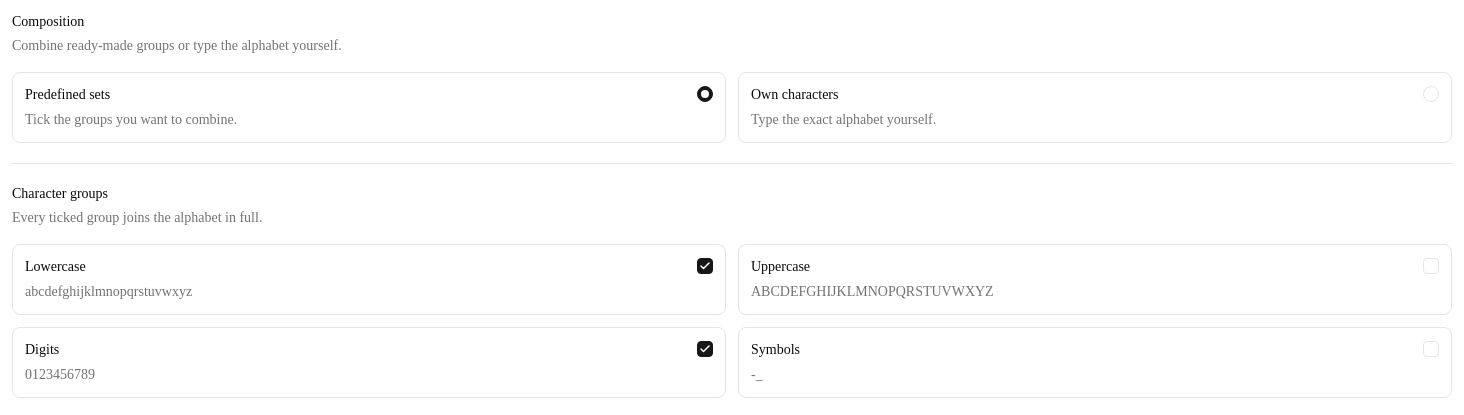
Scenario: IdAlphabetField › swaps the checkboxes for a character input in custom mode
The image size is (1464, 415).
What coordinates should you click on to do the following:
click the radio button named "Own characters" in the row of "Own characters"
I would click on:
 (1431, 94)
Its box is [1423,86,1439,102].
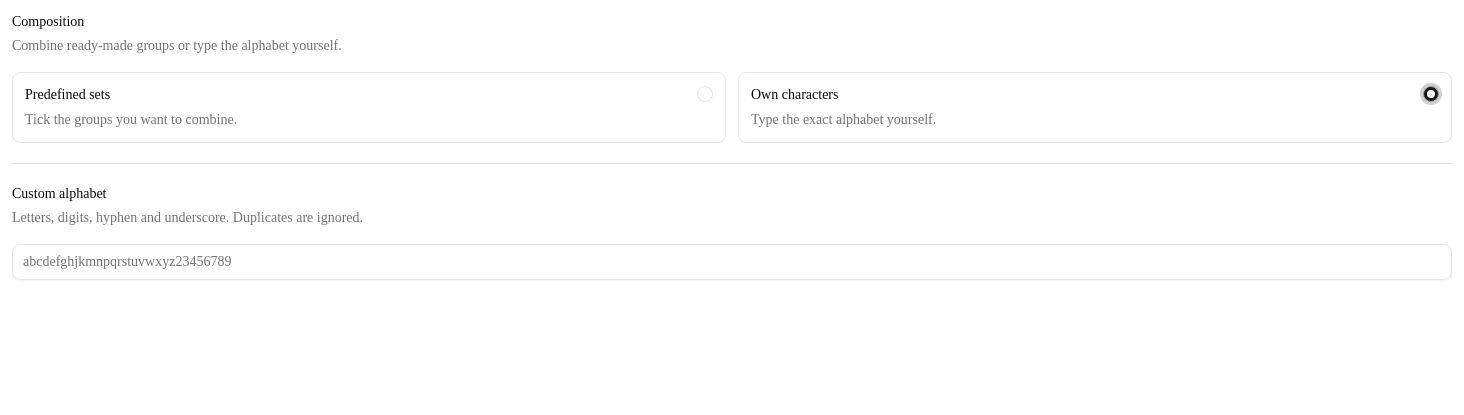
expect the text "Lowercase" is gone: met
expect the field named "Allowed characters" is shown: met, box [12,244,1452,280]
